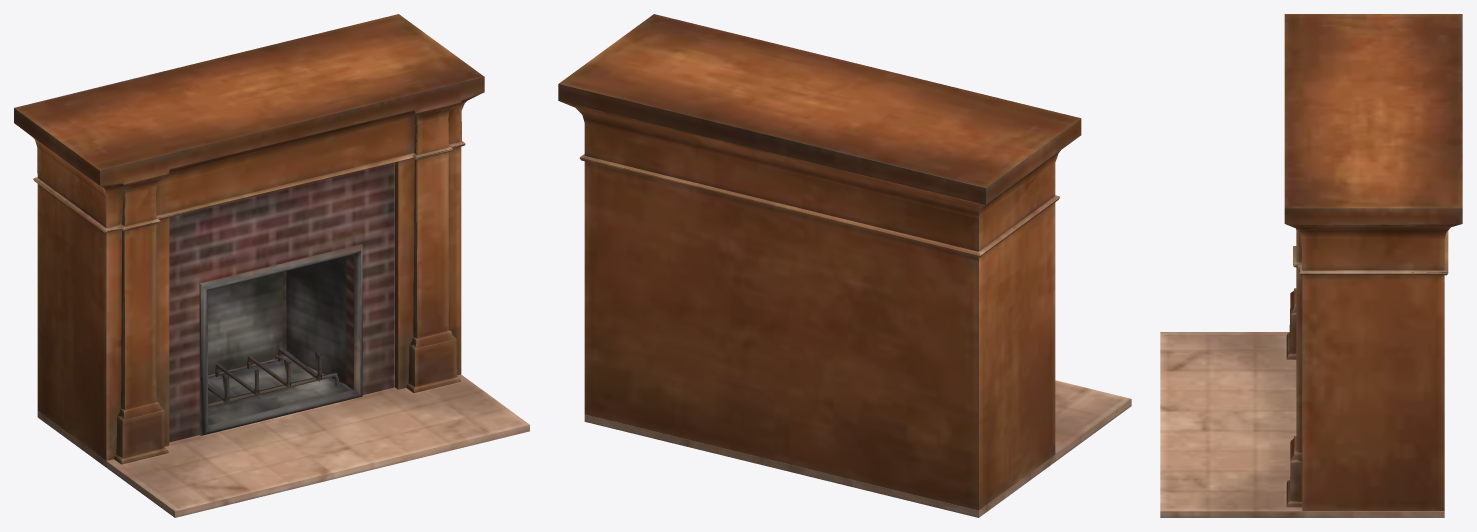
The model's file is SM_Fireplace_01a_4bbdc2.glb.
The picture shows the model from 3 angles, left to right: view 1: azimuth 30°, elevation 25°; view 2: azimuth 150°, elevation 25°; view 3: azimuth 270°, elevation 25°; orthographic projection. The views are drawn at different scales.
Bounding box in the file's own units: 1.64 × 1.25 × 1.08.
1 material, 1 textured.
